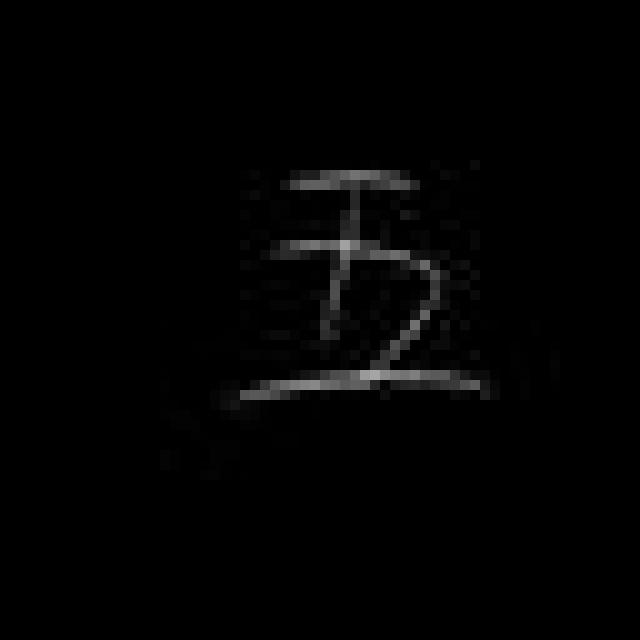5 -five-: (222, 147, 498, 415)
